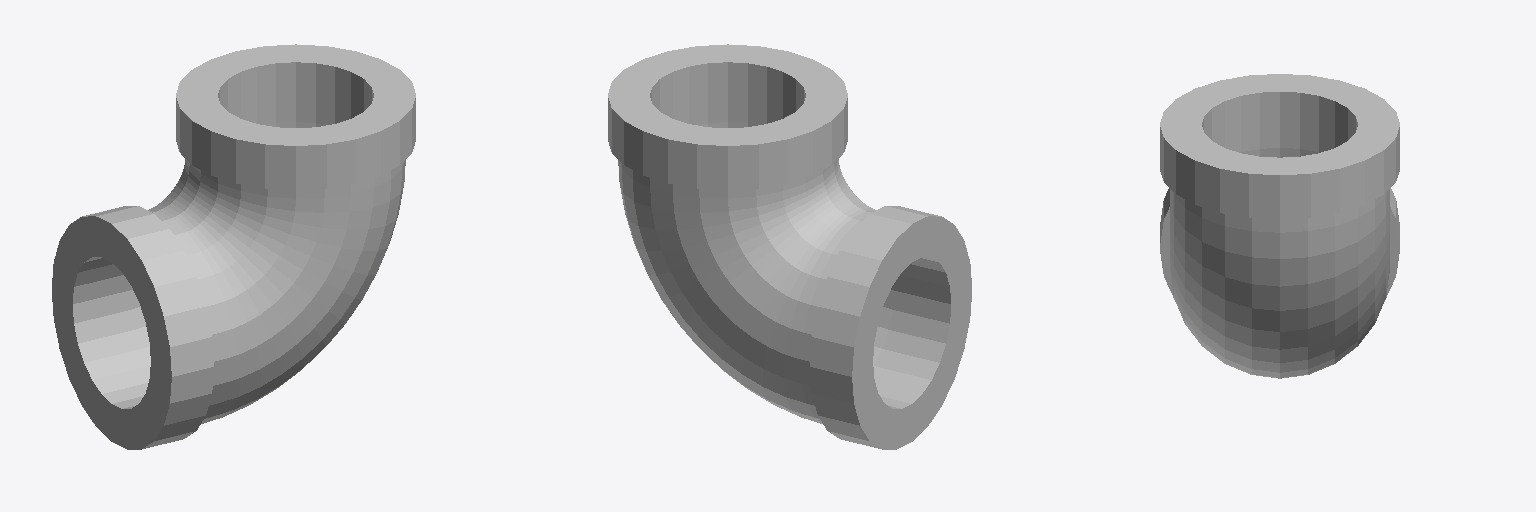
File: pipeElbow.obj
3 renders of one model, left to right at view 1: azimuth 30°, elevation 25°; view 2: azimuth 150°, elevation 25°; view 3: azimuth 270°, elevation 25°, orthographic.
Visible parts, largest first — view 1: Mesh1 Model; view 2: Mesh1 Model; view 3: Mesh1 Model.
Boxes of the visible parts, x1=… form: Mesh1 Model: x1=52, y1=44, x2=415, y2=449; Mesh1 Model: x1=608, y1=44, x2=971, y2=449; Mesh1 Model: x1=1160, y1=74, x2=1399, y2=378.
Size of the model in its own units: 1.7 by 1.7 by 1.23.